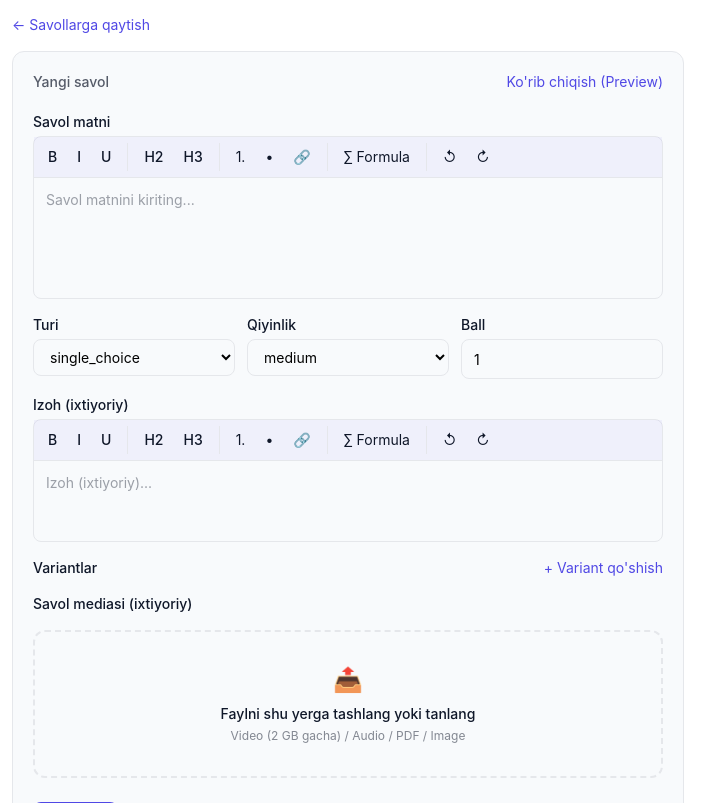
QuestionFormPage — conditional option-set validation (approved decision 7) › question type switching updates which options section is shown
The image size is (701, 803).
Click the button "+ Variant qo'shish" at (603, 568), box [544,558,663,578]
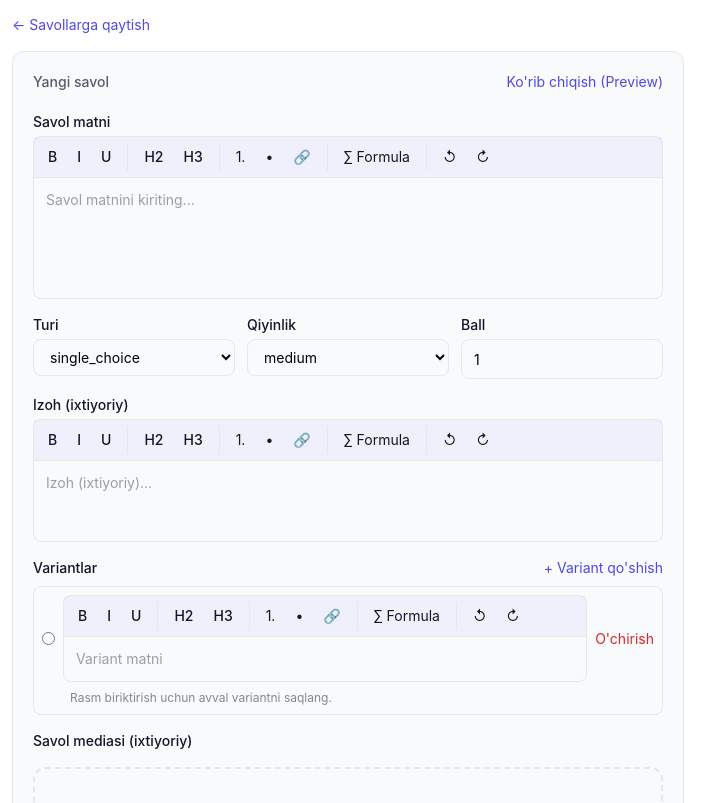
Check: the text "Variantlar" is shown, box [33,558,97,578]
Select "short_answer" in the dropdown labelled "Turi" at (134, 358), box [33,339,235,376]
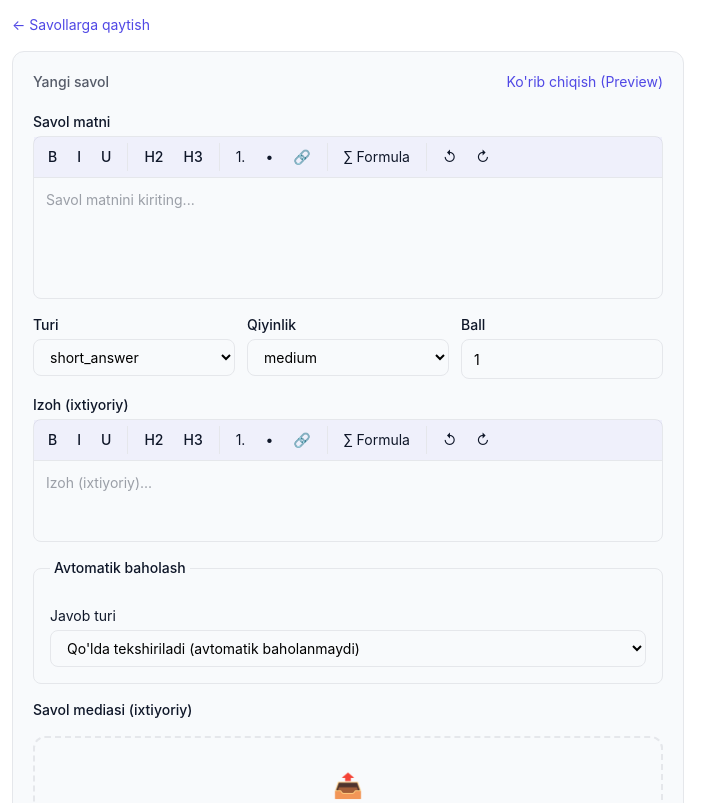
Check: the text "Variantlar" is gone
